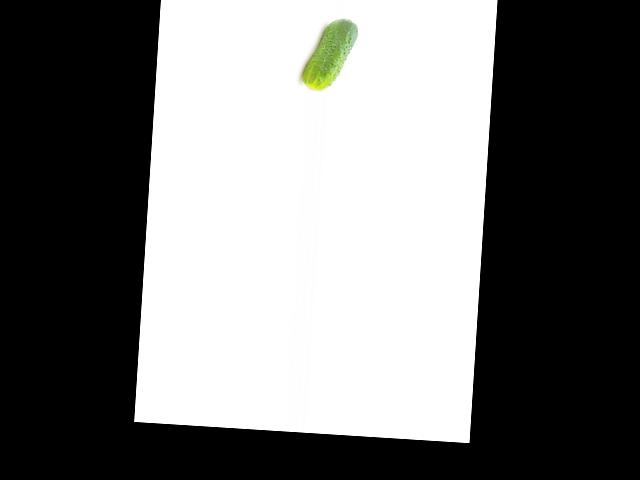cucumber: (301, 16, 358, 93)
